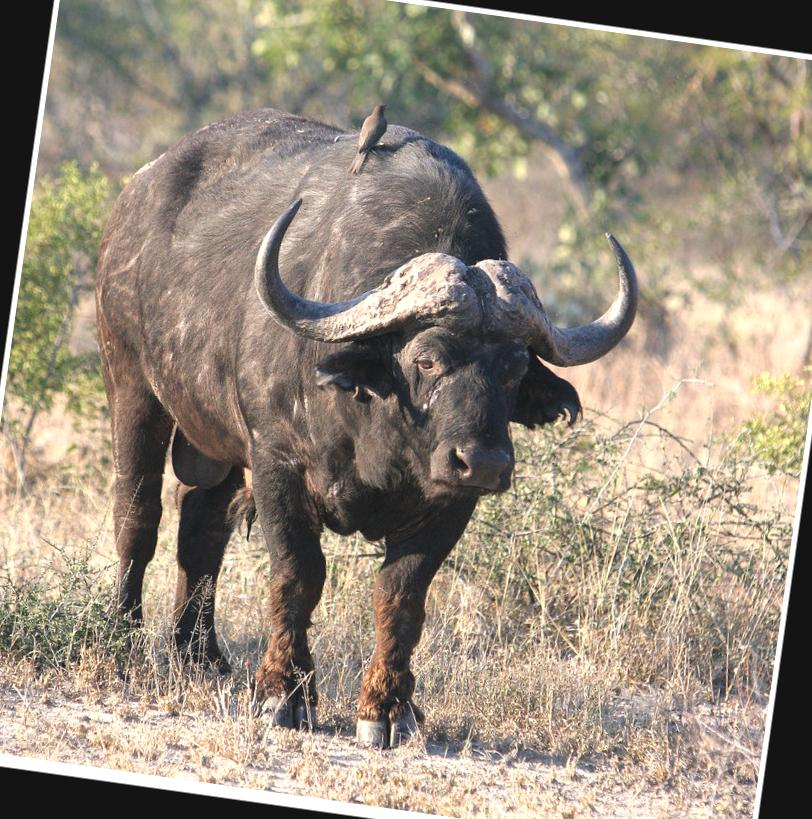Buffalo: (0, 0, 728, 819)
